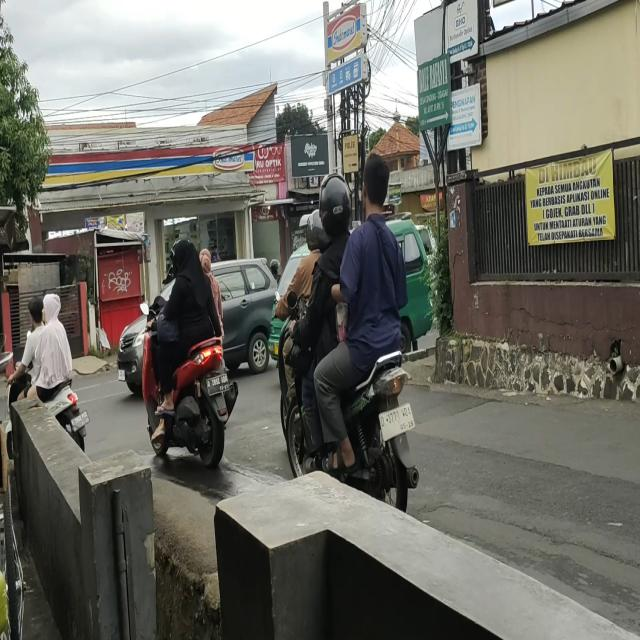helmet: (322, 168, 351, 238), (306, 210, 323, 250)
no-helmet: (361, 153, 390, 212), (40, 288, 60, 324), (176, 240, 196, 276), (25, 295, 42, 325), (199, 248, 212, 280)
